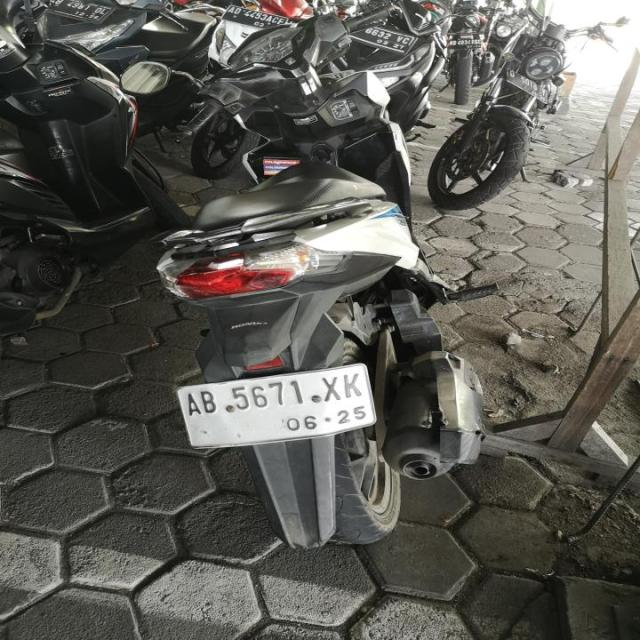License Plate: (174, 359, 380, 454), (346, 26, 419, 55), (504, 65, 548, 106), (220, 4, 289, 30), (448, 39, 482, 49)
